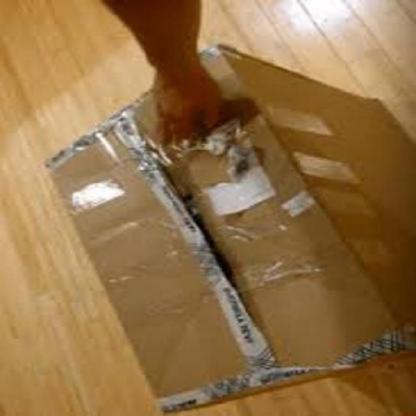box: (48, 41, 415, 410)
